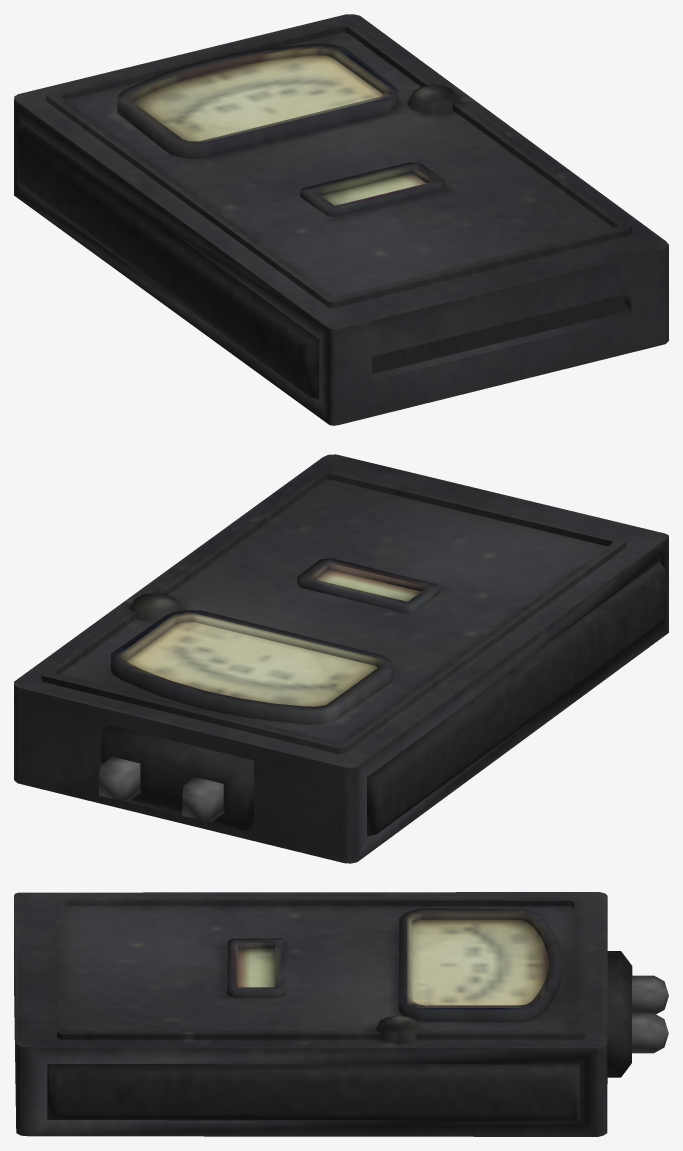
Rendered from dosimeter_4.fbx.
The picture shows the model from 3 angles, top to bottom: view 1: azimuth 30°, elevation 25°; view 2: azimuth 150°, elevation 25°; view 3: azimuth 270°, elevation 25°; orthographic projection. The views are drawn at different scales.
Visible parts, largest first — view 1: dosimeter_4; view 2: dosimeter_4; view 3: dosimeter_4.
Boxes of the visible parts, x1=… form: dosimeter_4: x1=14, y1=14, x2=668, y2=425; dosimeter_4: x1=14, y1=454, x2=668, y2=863; dosimeter_4: x1=14, y1=892, x2=668, y2=1136.
Size of the model in its own units: 16.02 by 4.5 by 26.67.
